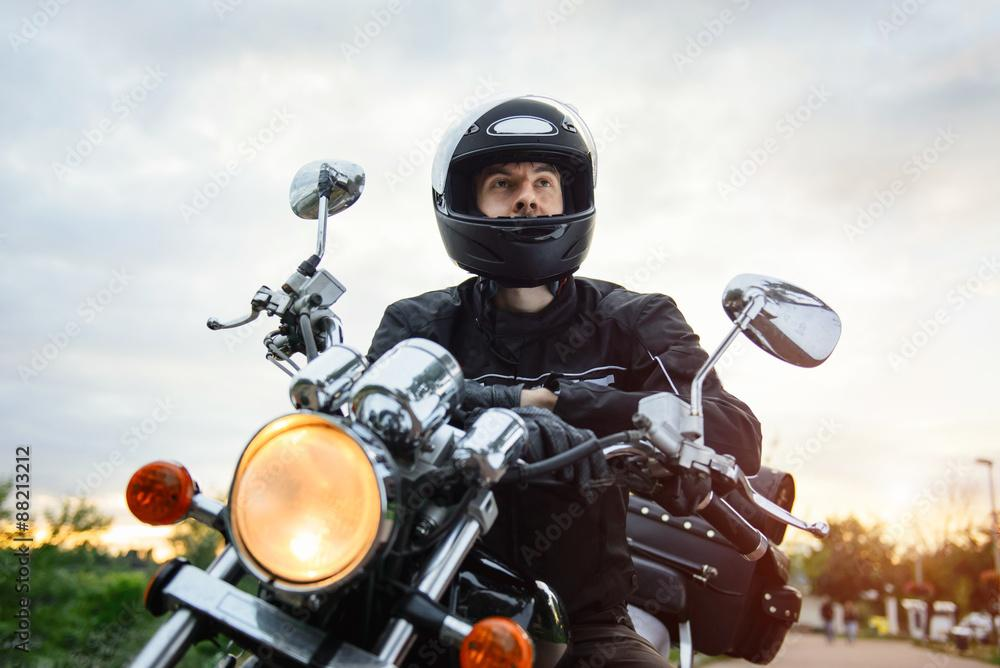helmet: (430, 92, 600, 290)
